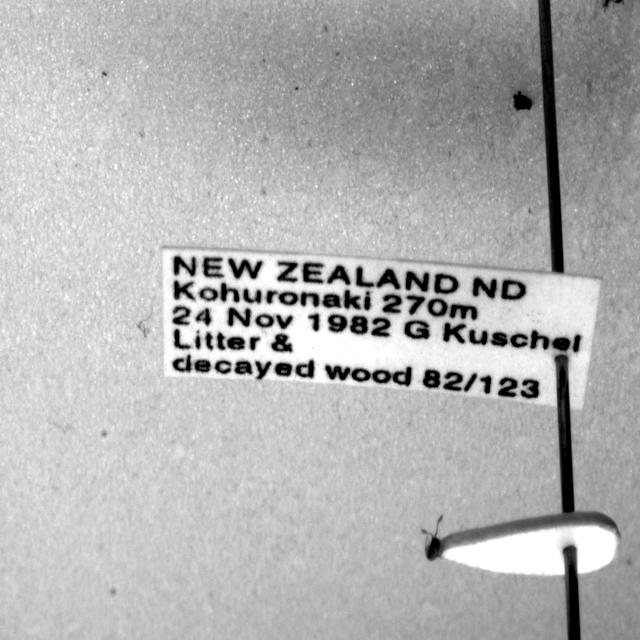typed_label: (162, 248, 601, 409)
